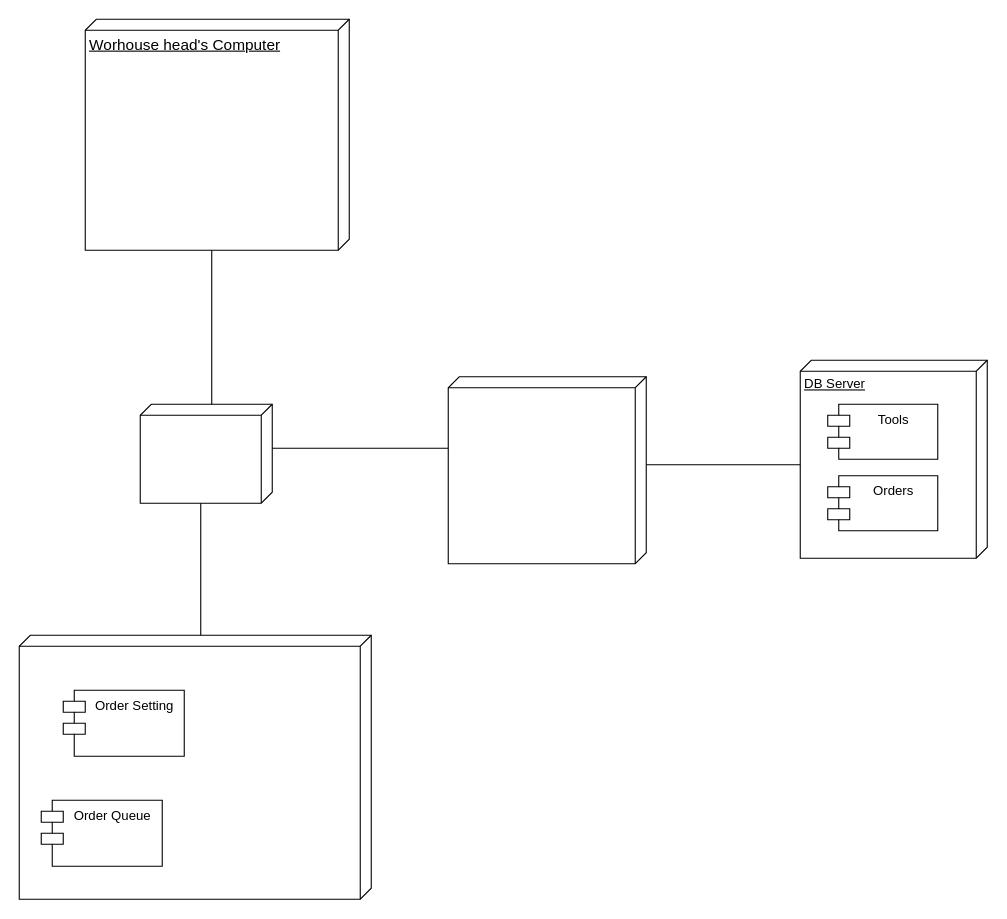
Some shapes in this 1007 by 919 pixel diagram are drawn without their labels. Each missing label, with the box of its shape:
Corparation server: (447, 376, 646, 564)
Head Master' Computer: (18, 634, 371, 899)
Router: (139, 403, 272, 503)
